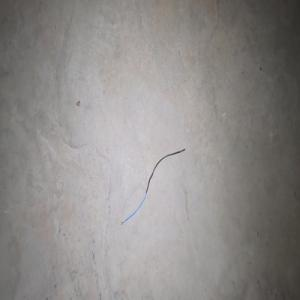Wire: (120, 148, 185, 224)
